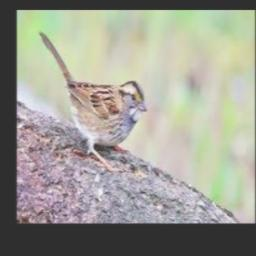Sparrow: (38, 32, 146, 172)
